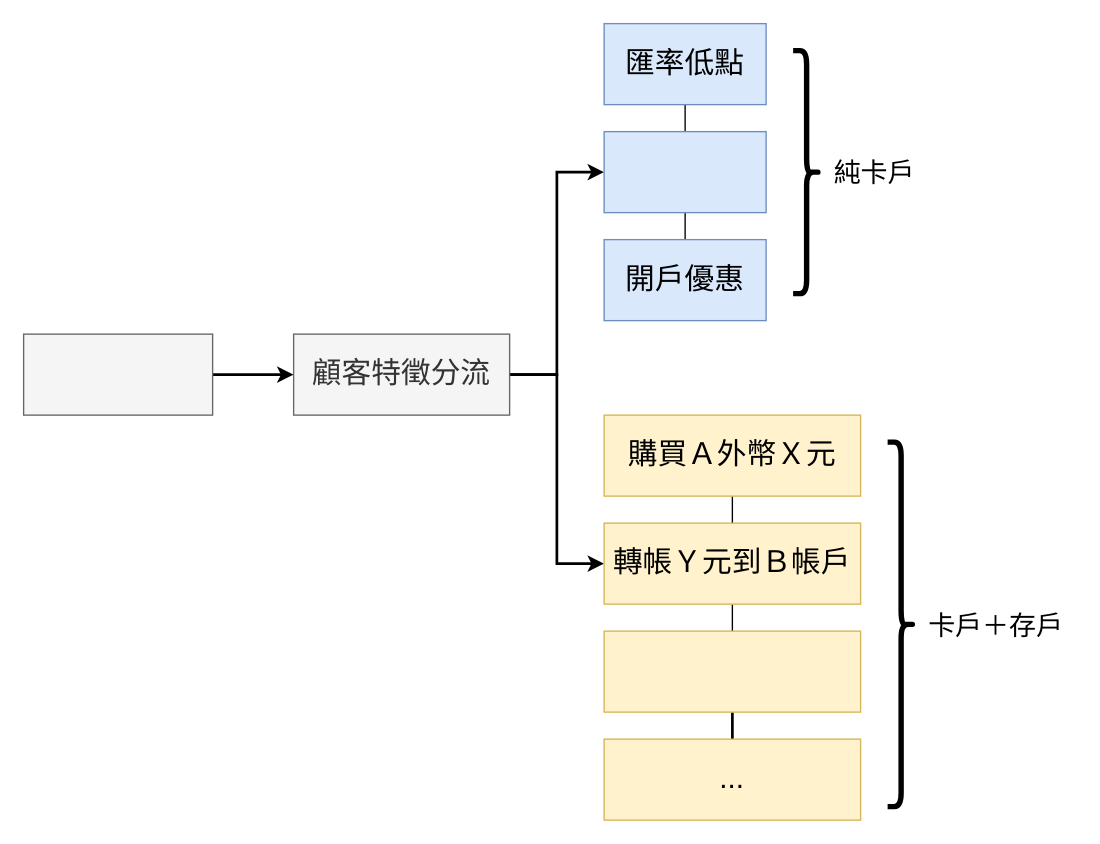
This 1100x844 diagram has some shape labels left out. Here are the shapes that lost their labels. From the top down, the box of each, then its label:
(603, 130, 766, 213): 熱門基金
(22, 333, 213, 415): 顧客登入
(603, 630, 861, 712): 申購Ｚ基金
